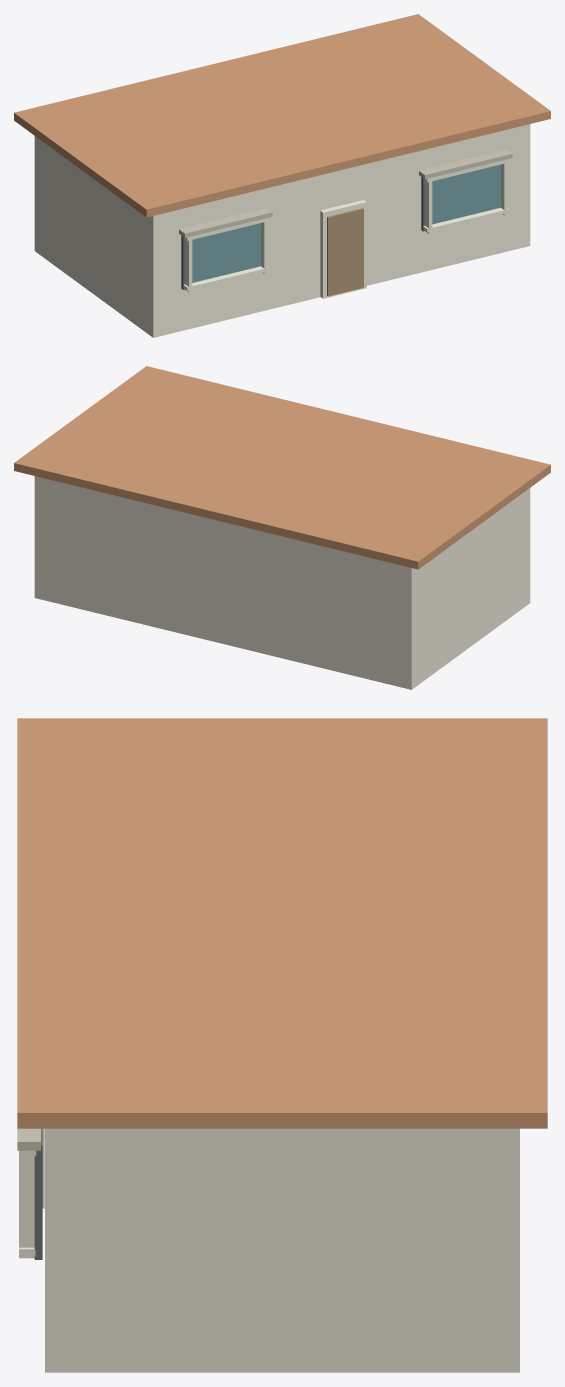
The picture shows the model from 3 angles, top to bottom: view 1: azimuth 30°, elevation 25°; view 2: azimuth 150°, elevation 25°; view 3: azimuth 270°, elevation 25°; orthographic projection. The views are drawn at different scales.
Size of the model in its own units: 11.8 by 3.81 by 6.7.
